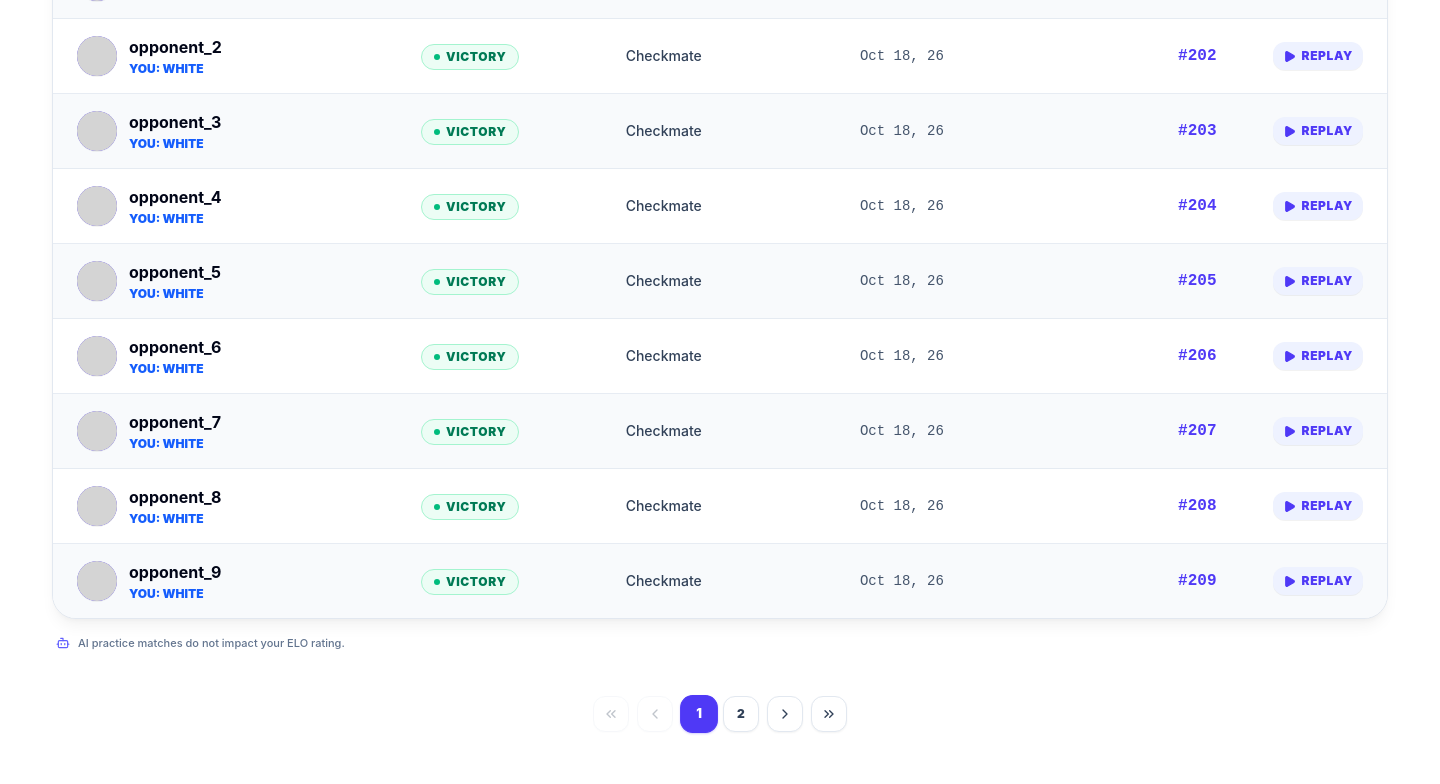
Test case: AllMatchHistory Tabbed Component › navigates through pages when matches exceed page size
This screenshot has width=1440, height=784.
(page scrolled)
Click the button named "next page" at (785, 714), box [767,696,803,732]
(page scrolled)
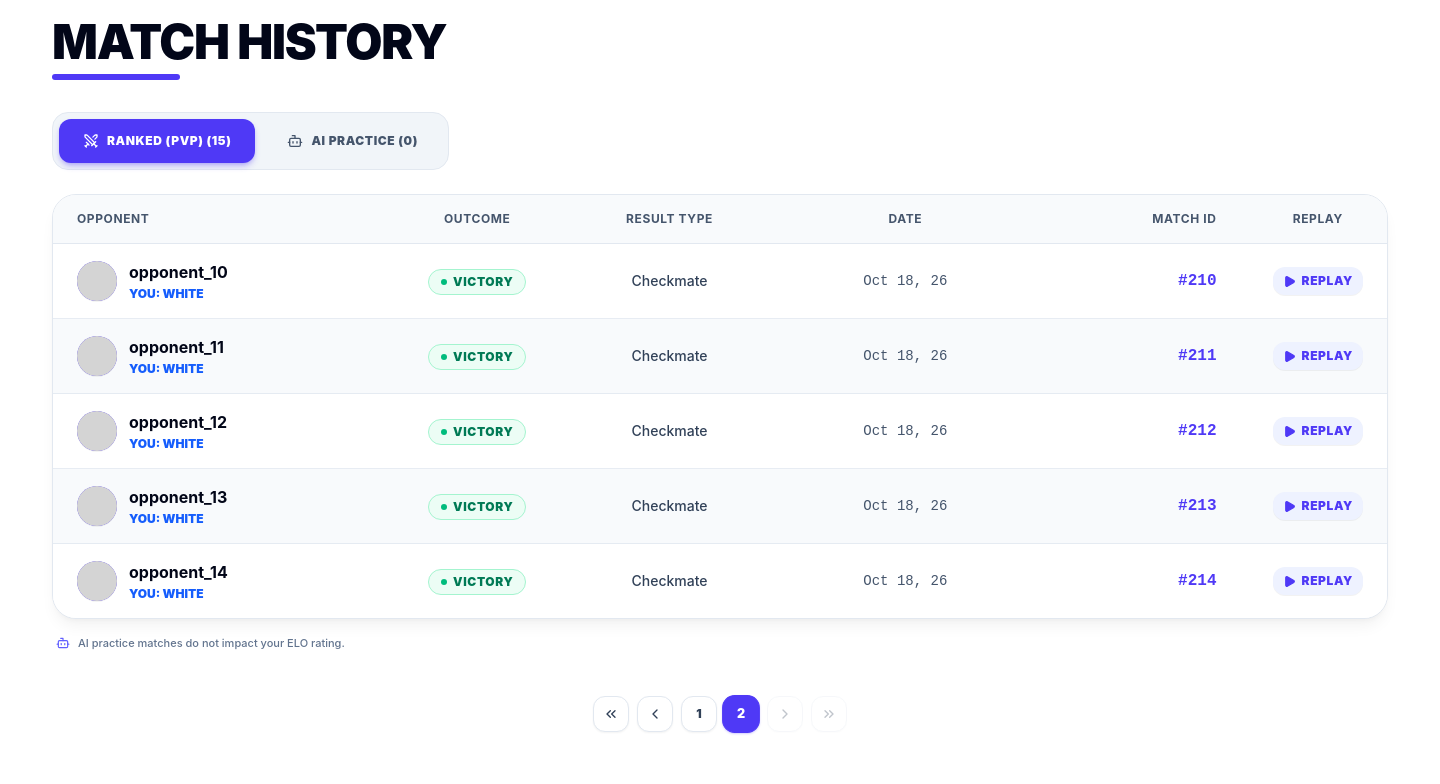
expect the text "opponent_10" is shown: met, box [129,260,228,284]
